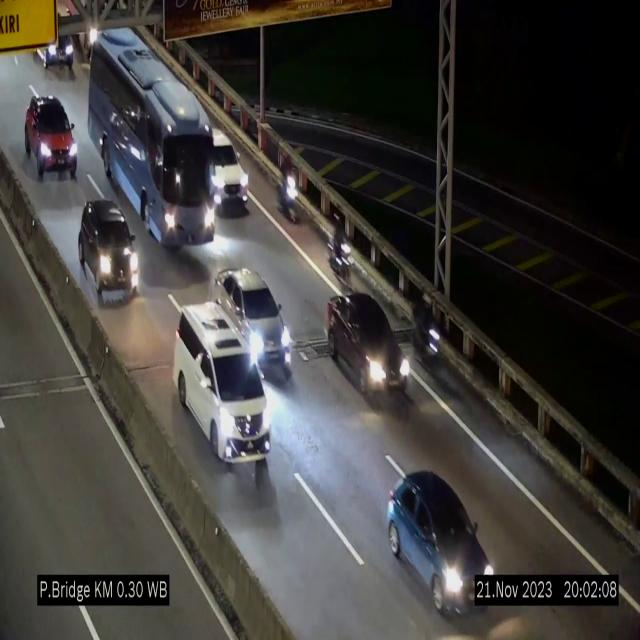Bus: (86, 30, 217, 250)
Car: (381, 465, 494, 608), (173, 304, 271, 463), (328, 292, 412, 402), (219, 266, 293, 379), (76, 198, 140, 301), (23, 91, 79, 181), (214, 117, 253, 223)
Motorcycle: (328, 209, 358, 294), (276, 149, 304, 231), (417, 284, 441, 375)
